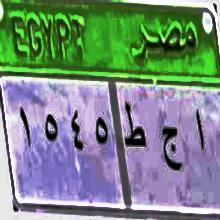1: (20, 103, 32, 156)
4: (69, 106, 85, 160)
5: (92, 110, 109, 155), (45, 107, 59, 150)
Taa: (122, 98, 148, 160)
alif: (193, 106, 207, 158)
jeem: (161, 122, 183, 176)
